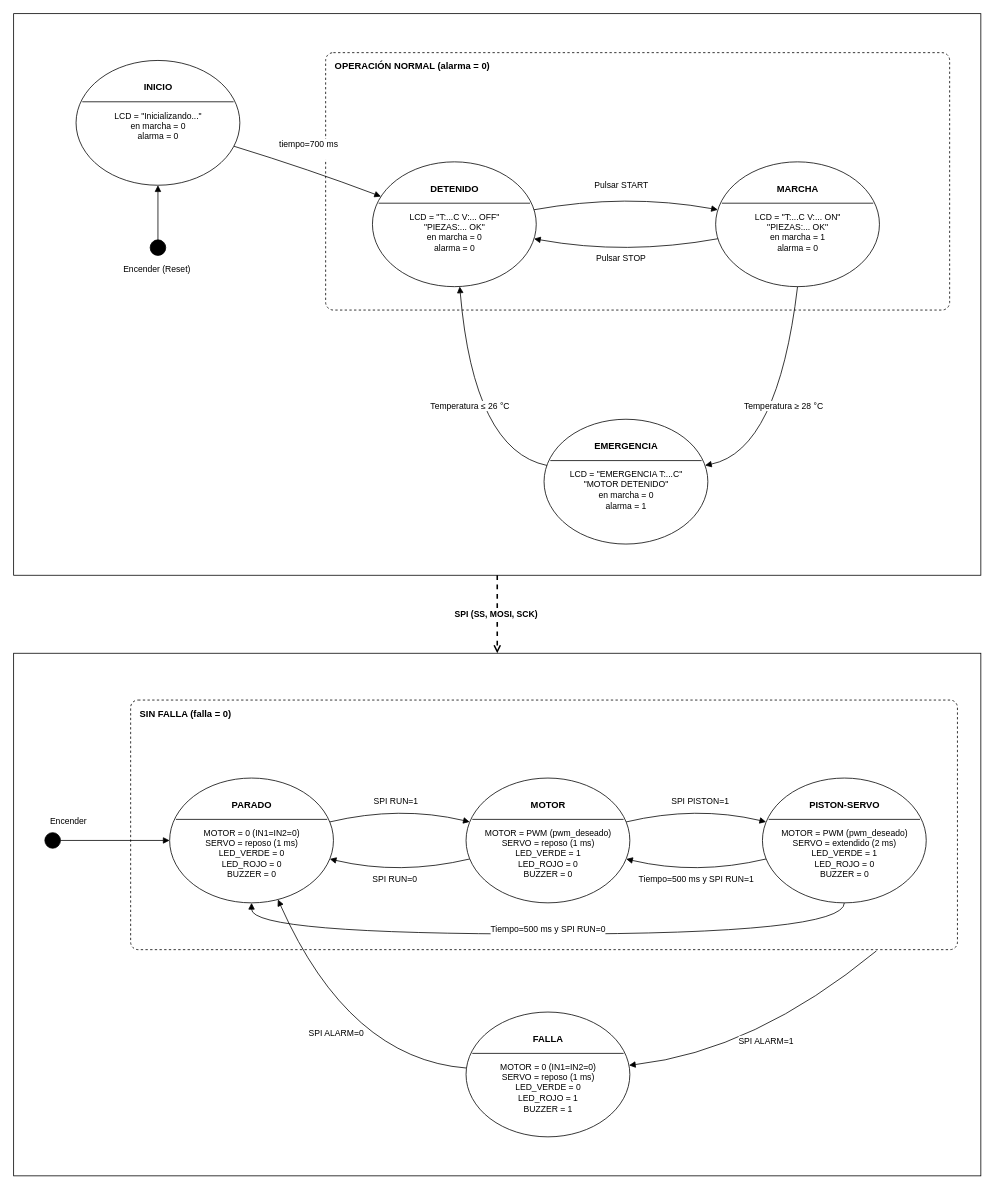
The diagram is 994 pixels wide and 1190 high, and some of its shapes have lost their labels. Here are the shapes that lost their labels. From the top down, the box of each, then its label:
(13, 13, 981, 575): ARDUINO MAESTRO (botón, potenciómetro, LDR, DHT11, LCD)
(13, 652, 981, 1176): ARDUINO ESCLAVO (motor DC, servo-pistón, indicadores)
